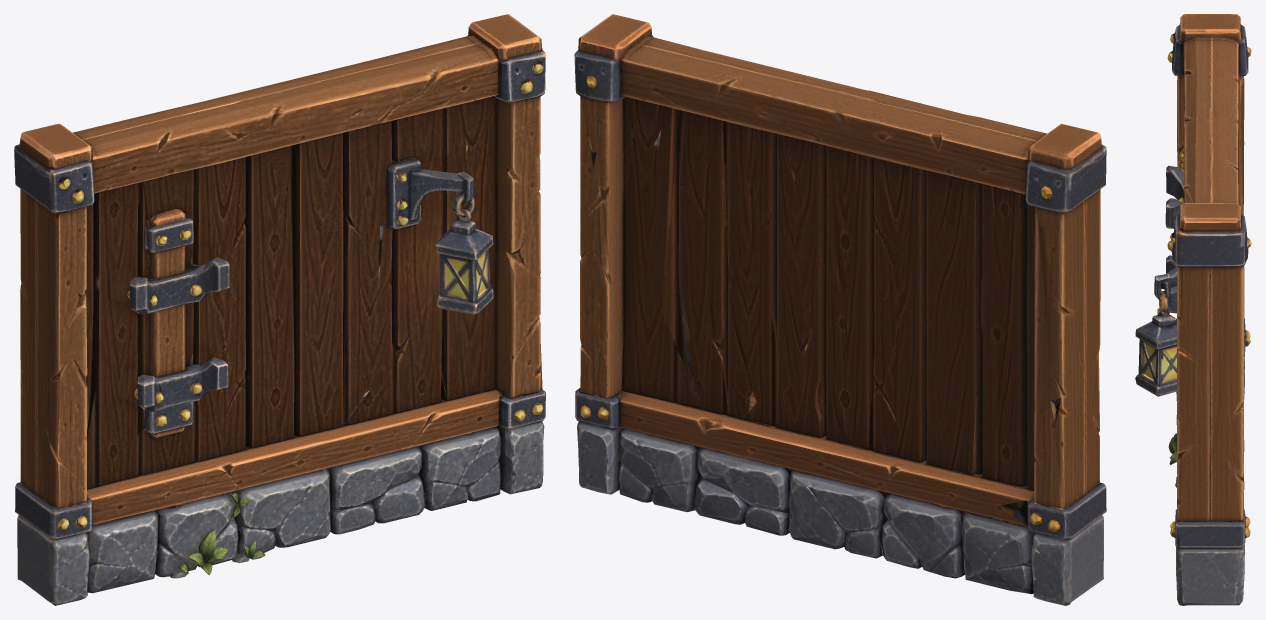
File: wall_plain_2.glb
The picture shows the model from 3 angles, left to right: view 1: azimuth 30°, elevation 25°; view 2: azimuth 150°, elevation 25°; view 3: azimuth 270°, elevation 25°; orthographic projection. The views are drawn at different scales.
Visible parts, largest first — view 1: output_unwrapped; view 2: output_unwrapped; view 3: output_unwrapped.
Boxes of the visible parts, <box> form: output_unwrapped: <box>14,14,545,605</box>; output_unwrapped: <box>574,14,1106,605</box>; output_unwrapped: <box>1135,14,1251,605</box>.
Bounding box in the file's own units: 1.9 × 1.65 × 0.446.
1 material, 1 textured.
